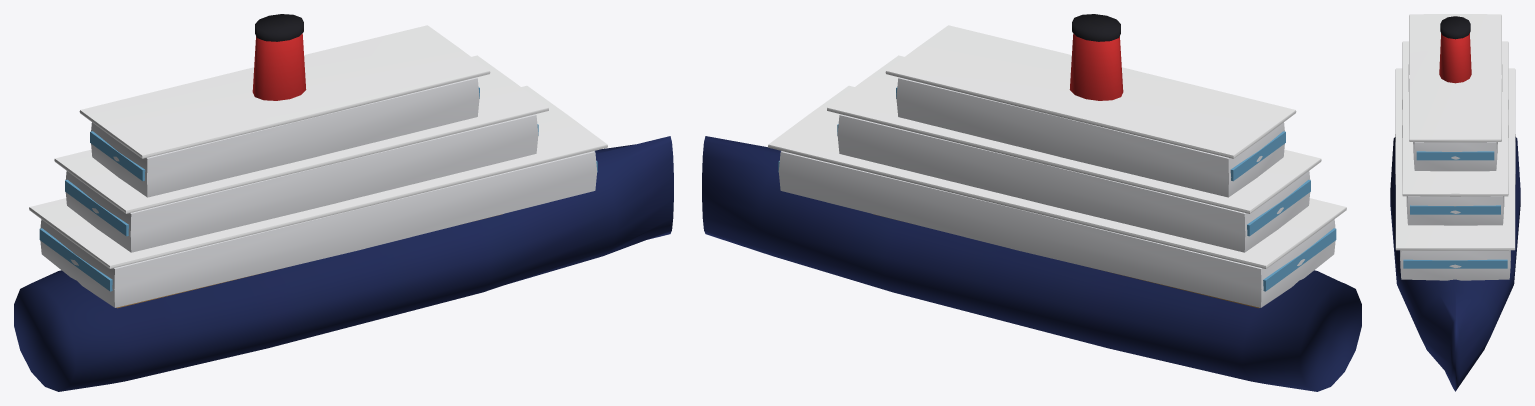
The model's file is Boat_L3.obj.
3 renders of one model, left to right at view 1: azimuth 30°, elevation 25°; view 2: azimuth 150°, elevation 25°; view 3: azimuth 270°, elevation 25°, orthographic. The views are drawn at different scales.
Visible parts, largest first — view 1: Boat_L3; view 2: Boat_L3; view 3: Boat_L3.
Boxes of the visible parts, box(x1,y1,x2,y2) form: Boat_L3: box(14, 14, 673, 391); Boat_L3: box(702, 14, 1361, 391); Boat_L3: box(1390, 14, 1520, 391).
Size of the model in its own units: 5.6 by 2.62 by 1.36.
1 material, 1 textured.
